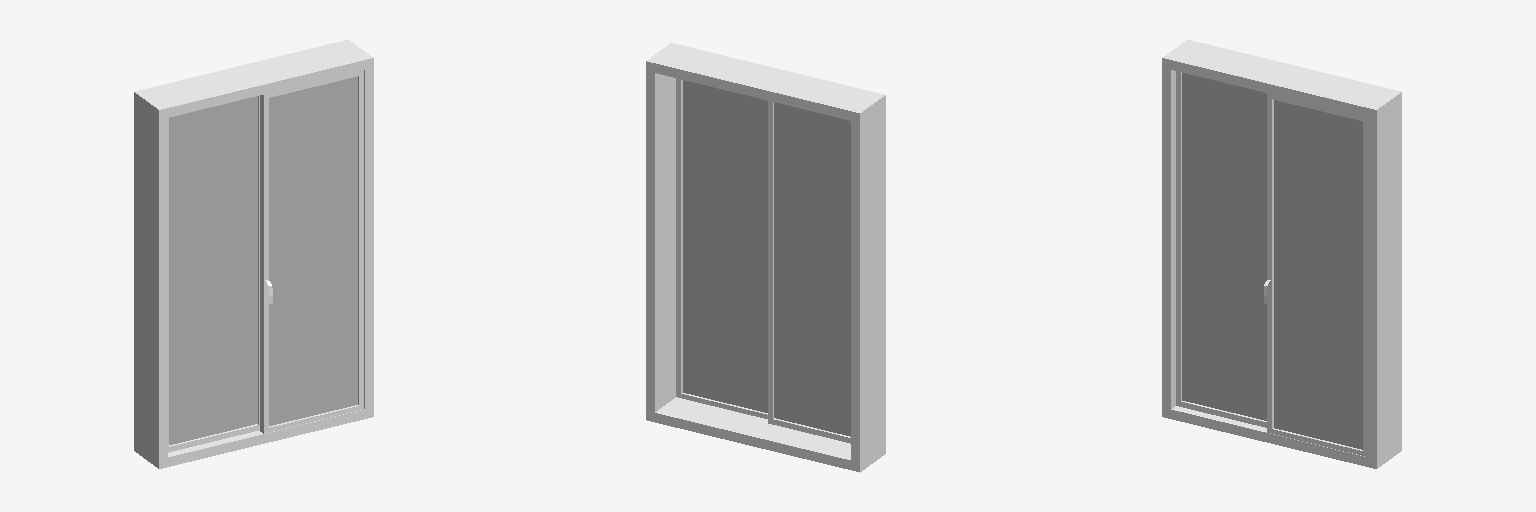
3 views of the same model, side by side, from view 1: azimuth 30°, elevation 25°; view 2: azimuth 150°, elevation 25°; view 3: azimuth 330°, elevation 25° (orthographic).
Visible parts, largest first — view 1: sweethome3d_window_pane_3, sweethome3d_window_pane_1_6, 2, Fenetre_1_5, Fenetre_2_4; view 2: 2, sweethome3d_window_pane_1_6, sweethome3d_window_pane_3, Fenetre_1_5, Fenetre_2_4; view 3: sweethome3d_window_pane_1_6, sweethome3d_window_pane_3, 2, Fenetre_1_5, Fenetre_2_4.
Boxes of the visible parts, x1=… form: sweethome3d_window_pane_3: x1=169, y1=96, x2=257, y2=444; sweethome3d_window_pane_1_6: x1=269, y1=76, x2=357, y2=425; 2: x1=134, y1=39, x2=373, y2=468; Fenetre_1_5: x1=260, y1=70, x2=363, y2=433; Fenetre_2_4: x1=168, y1=96, x2=259, y2=452; 2: x1=646, y1=43, x2=885, y2=472; sweethome3d_window_pane_1_6: x1=683, y1=80, x2=767, y2=412; sweethome3d_window_pane_3: x1=774, y1=102, x2=850, y2=436; Fenetre_1_5: x1=676, y1=78, x2=767, y2=418; Fenetre_2_4: x1=768, y1=101, x2=850, y2=443; sweethome3d_window_pane_1_6: x1=1274, y1=100, x2=1362, y2=449; sweethome3d_window_pane_3: x1=1182, y1=73, x2=1266, y2=420; 2: x1=1162, y1=39, x2=1401, y2=468; Fenetre_1_5: x1=1267, y1=93, x2=1367, y2=456; Fenetre_2_4: x1=1176, y1=71, x2=1266, y2=427.
Size of the model in its own units: 1.32 by 2.11 by 0.3171.